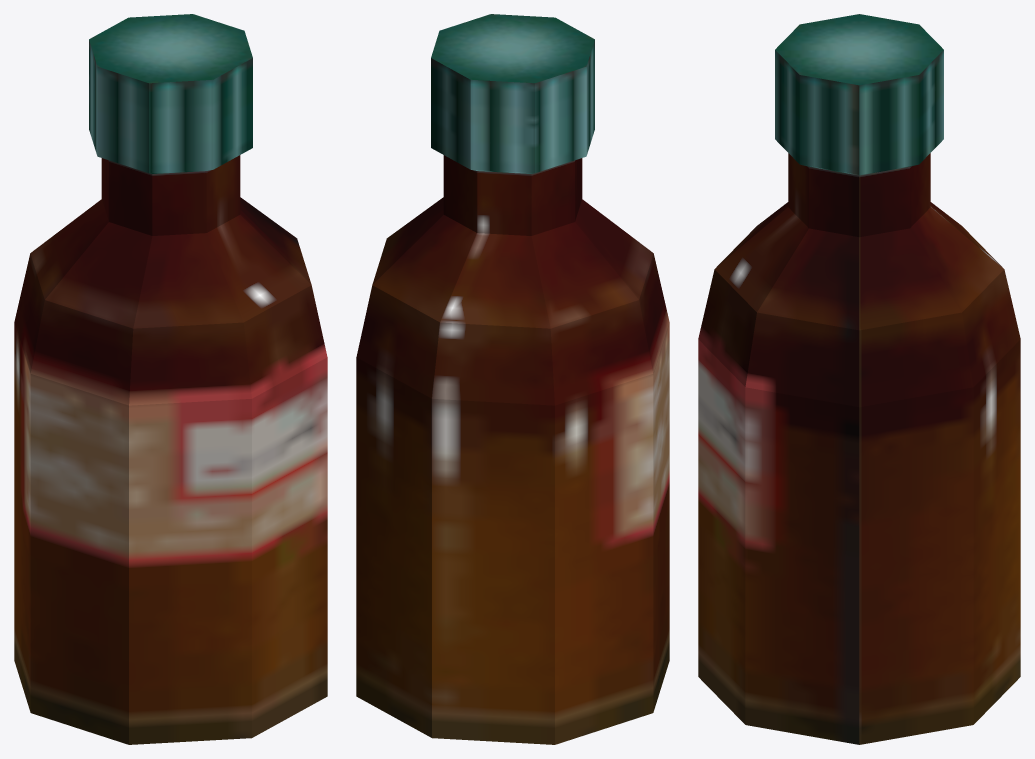
File: jar_4.fbx
3 views of the same model, side by side, from view 1: azimuth 30°, elevation 25°; view 2: azimuth 150°, elevation 25°; view 3: azimuth 270°, elevation 25° (orthographic).
Parts seen in each view (by area): view 1: mesh_0; view 2: mesh_0; view 3: mesh_0.
Part boxes in pixels (box(x1,y1,x2,y2)): mesh_0: box(14, 14, 327, 744); mesh_0: box(356, 14, 669, 744); mesh_0: box(698, 14, 1020, 744).
Size of the model in its own units: 7.6 by 16.3 by 7.6.
Materials: 1 (1 with a texture image).
